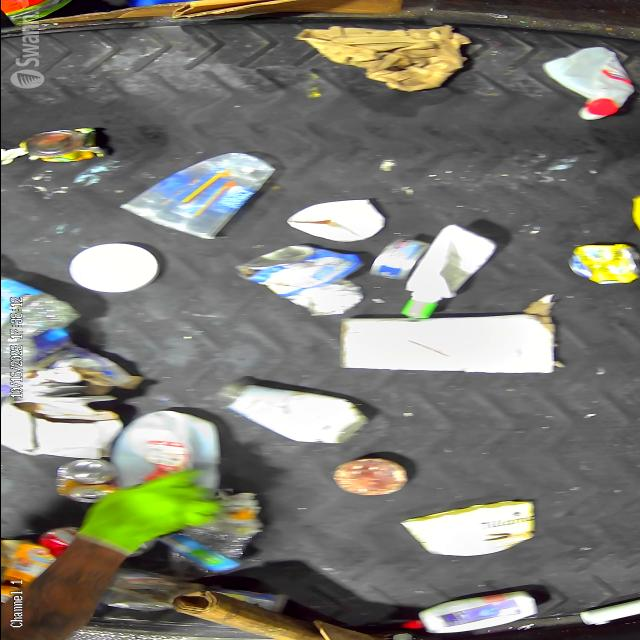can: (236, 248, 364, 284), (564, 241, 637, 283), (29, 124, 102, 164), (46, 459, 110, 501)
milk_jug: (117, 410, 220, 480)
